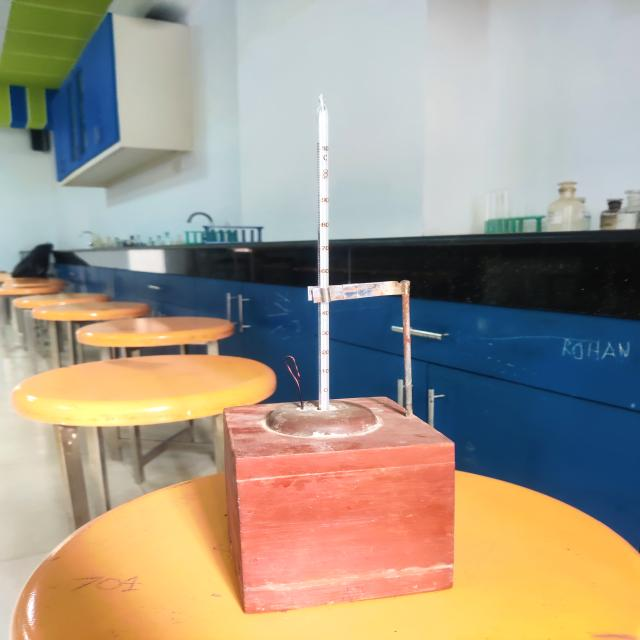Calorimeter: (190, 83, 499, 630)
